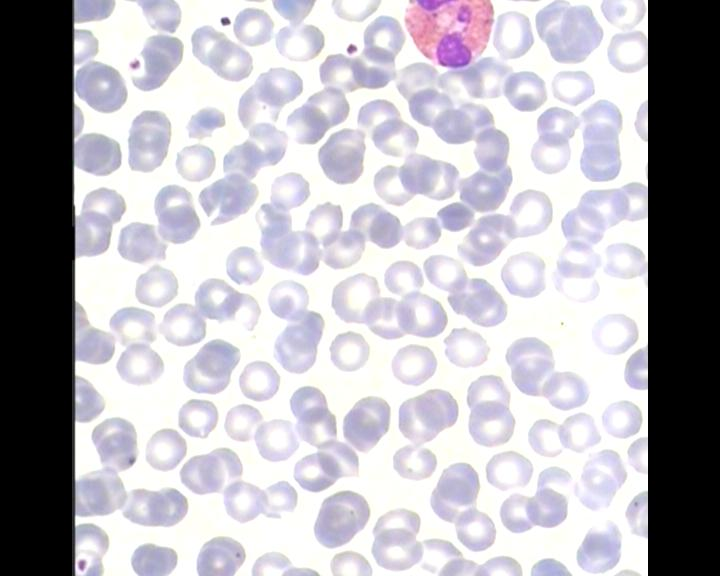eosi: (400, 0, 496, 74)
